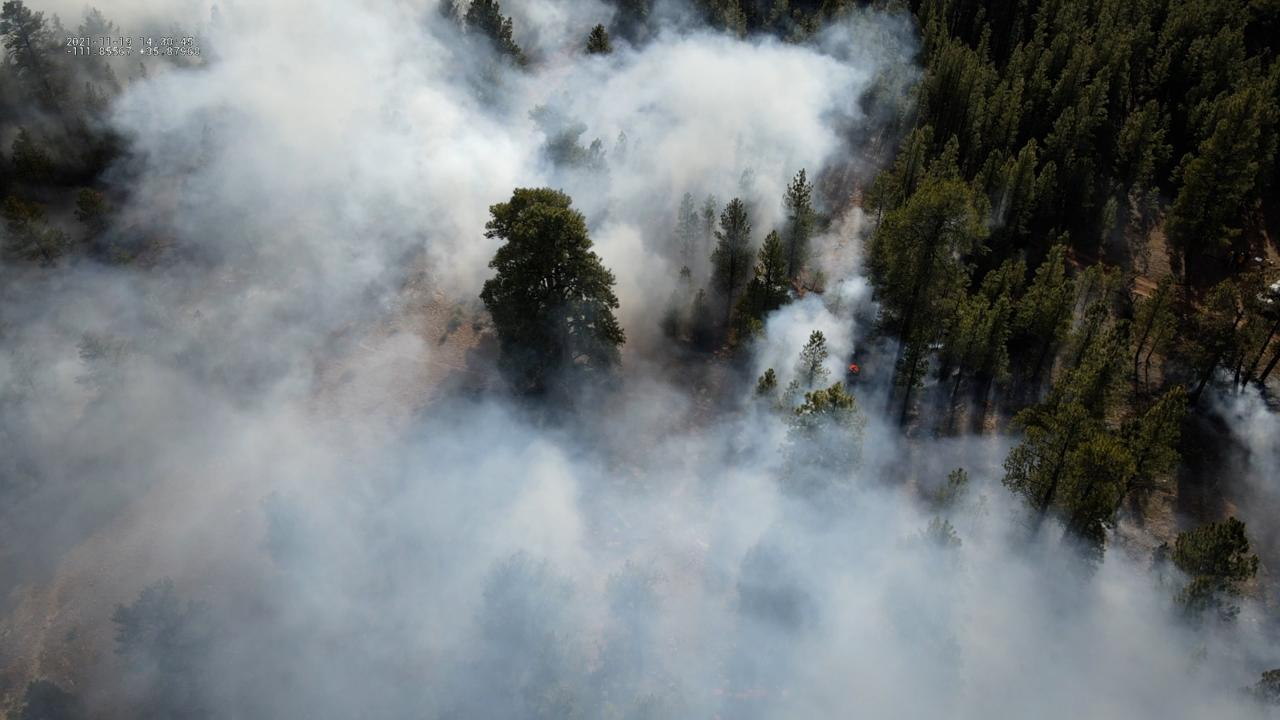fire: (846, 363, 861, 375)
smoke: (0, 0, 1280, 720)
